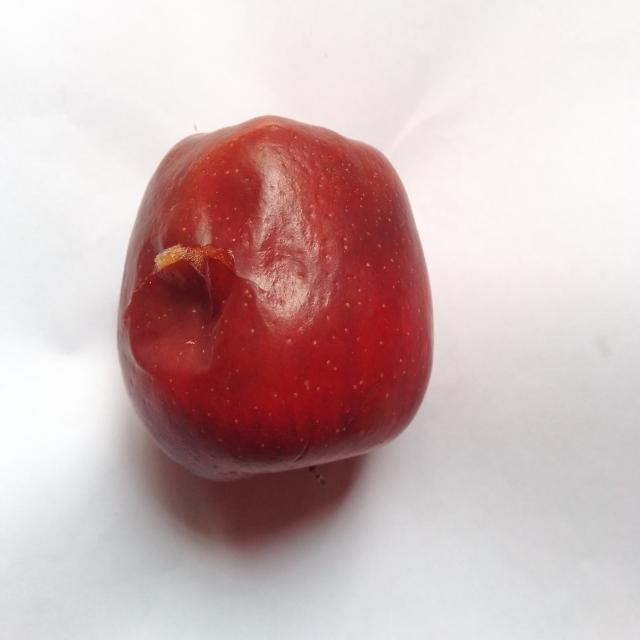apple: (118, 117, 432, 479)
